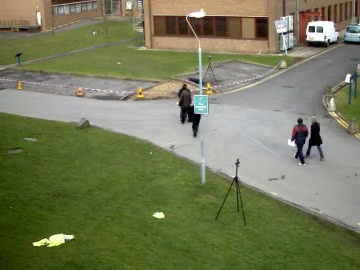person: (177, 85, 194, 127), (185, 100, 203, 138), (185, 101, 203, 137)
